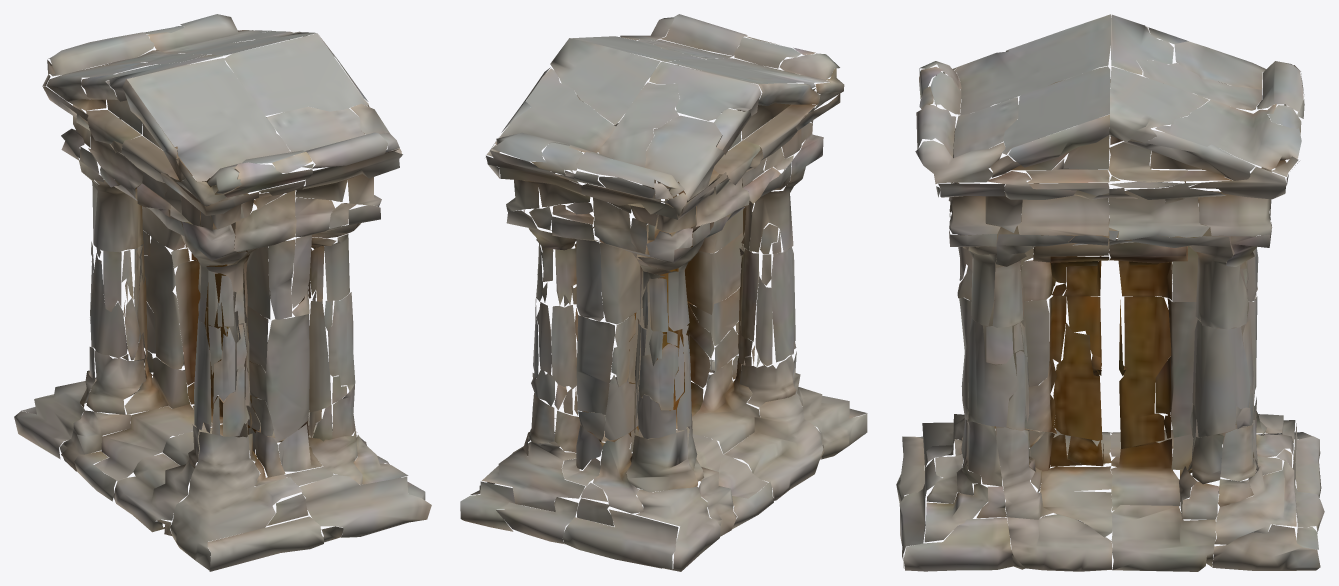
The model's file is gateway.glb.
The picture shows the model from 3 angles, left to right: view 1: azimuth 30°, elevation 25°; view 2: azimuth 150°, elevation 25°; view 3: azimuth 270°, elevation 25°; orthographic projection. The views are drawn at different scales.
Parts seen in each view (by area): view 1: tripo_node_a843cdcd-b777-4394-8bf1-1ae23f2e9a53; view 2: tripo_node_a843cdcd-b777-4394-8bf1-1ae23f2e9a53; view 3: tripo_node_a843cdcd-b777-4394-8bf1-1ae23f2e9a53.
Boxes of the visible parts, <box> form: tripo_node_a843cdcd-b777-4394-8bf1-1ae23f2e9a53: <box>14,14,431,571</box>; tripo_node_a843cdcd-b777-4394-8bf1-1ae23f2e9a53: <box>460,14,867,571</box>; tripo_node_a843cdcd-b777-4394-8bf1-1ae23f2e9a53: <box>896,14,1324,571</box>.
Bounding box in the file's own units: 0.5808 × 1 × 0.8619.
1 material, 1 textured.
